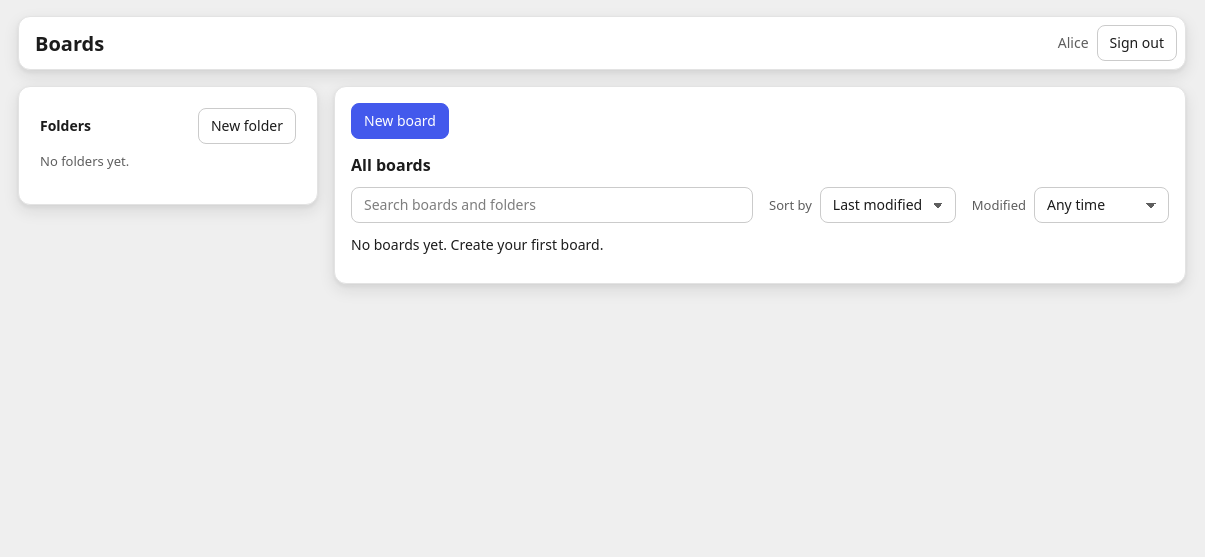
Test case: / — доступ пользователя досок (ACC-03) › выход завершает сессию и возвращает на /login
What coordinates should you click on to do the following:
click the button "Sign out"
I would click on:
 (1137, 43)
Its box is [1097, 25, 1177, 61].
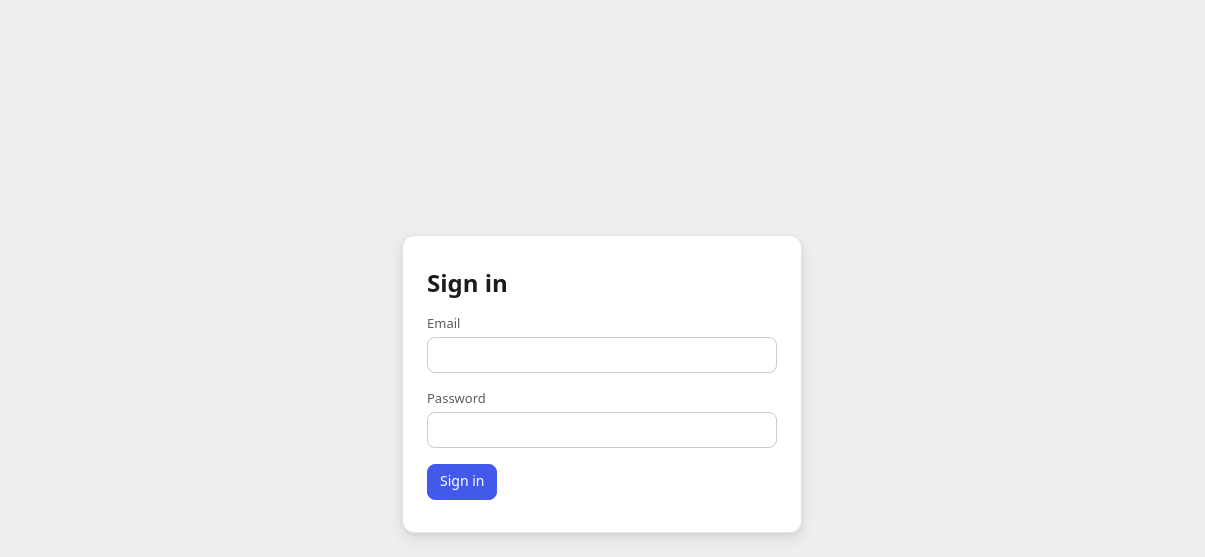
Expected: the button "Sign in" is shown, [427, 464, 498, 500]
